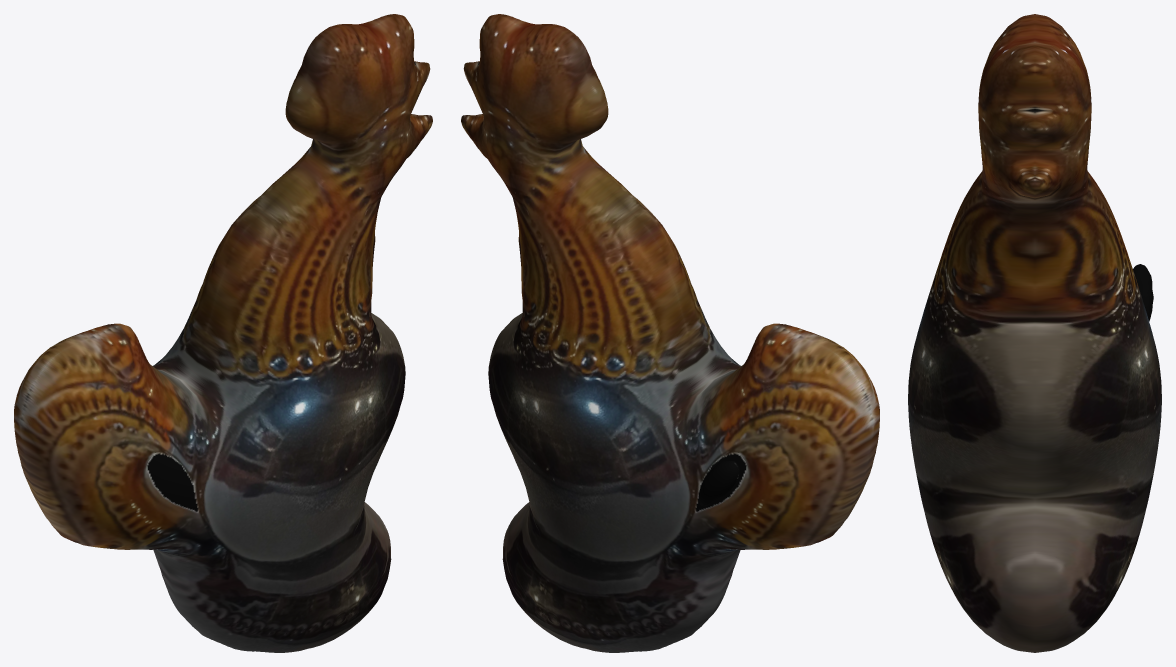
3 views of the same model, side by side, from view 1: azimuth 30°, elevation 25°; view 2: azimuth 150°, elevation 25°; view 3: azimuth 270°, elevation 25° (orthographic). The views are drawn at different scales.
Size of the model in its own units: 5.54 by 7.78 by 2.76.
1 material, 1 textured.
